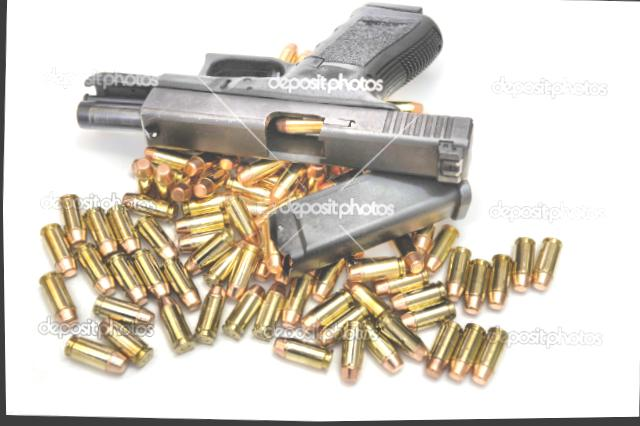pistol: (63, 0, 502, 179)
